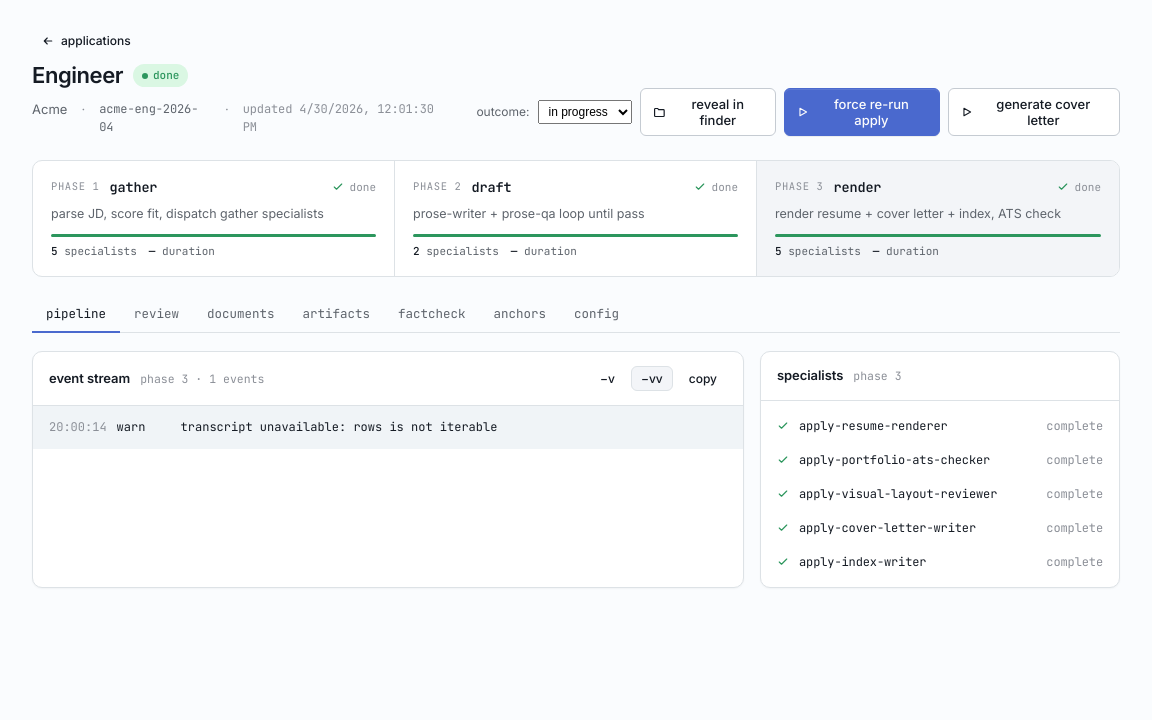
Test: ApplicationDetail positive: API artifacts surface in DOM (feat-83d6cf54) › renders fact-check rows from the real FactCheckResult schema (verified_claims + failed_claims)
Click the text "factcheck" at (432, 313), box [398,304,466,322]
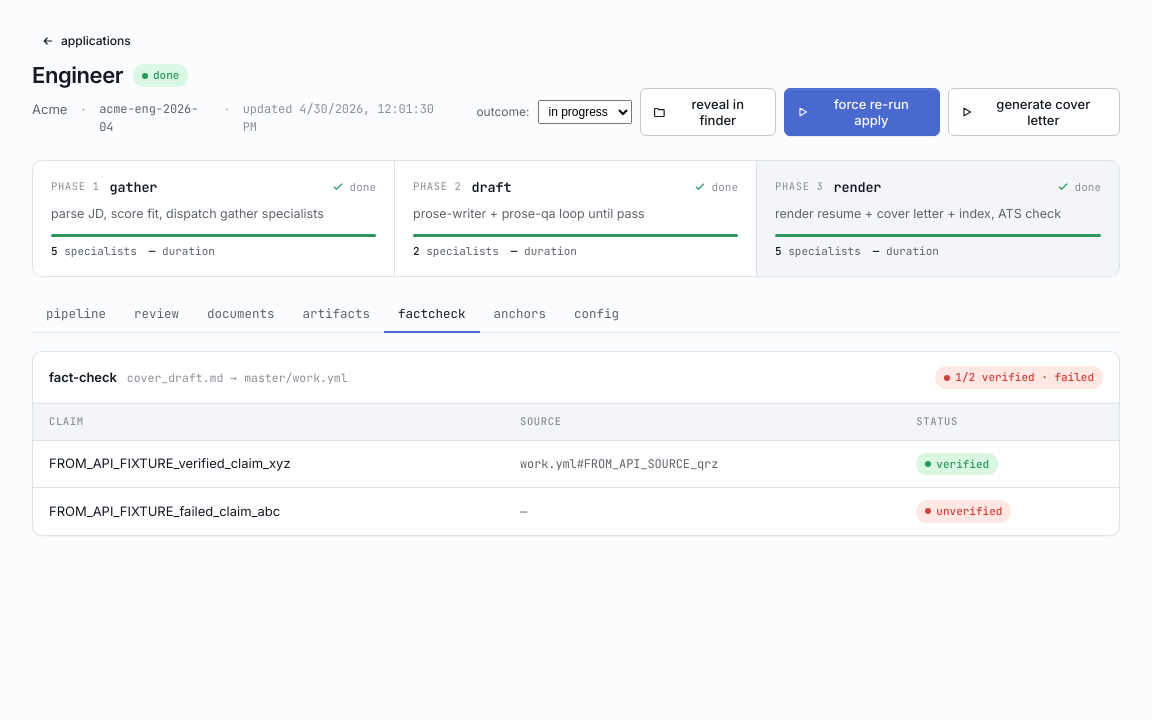
Check: the text "FROM_API_FIXTURE_verified_claim_xyz" is shown, box [33,440,504,488]
Check: the text "work.yml#FROM_API_SOURCE_qrz" is shown, box [520,456,718,472]
Check: the text "FROM_API_FIXTURE_failed_claim_abc" is shown, box [33,488,504,534]
